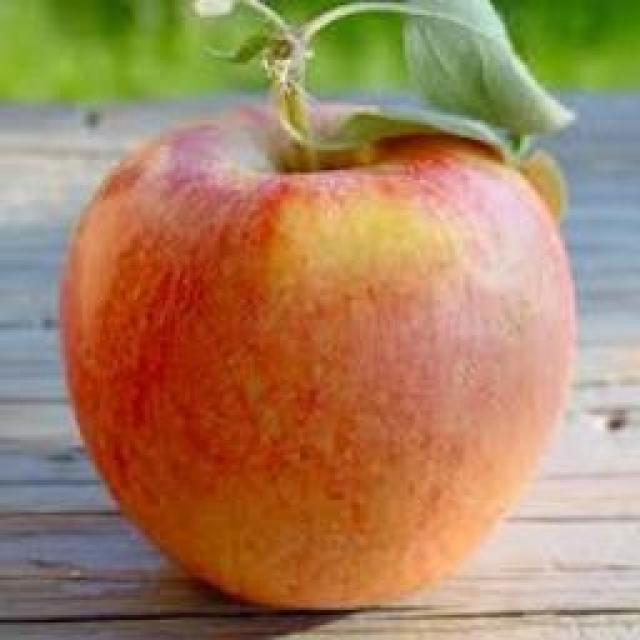Apple: (62, 112, 575, 608)
